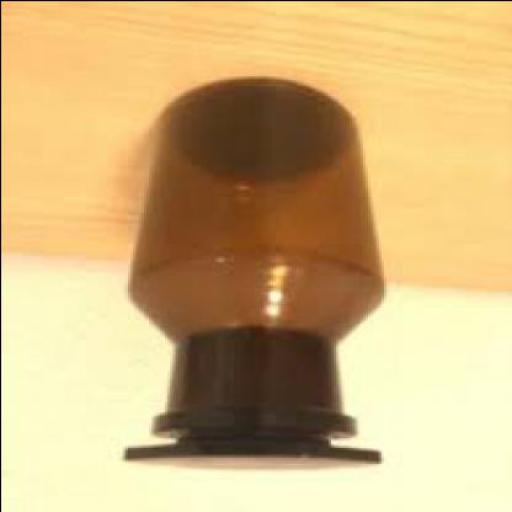glass: (118, 83, 380, 468)
